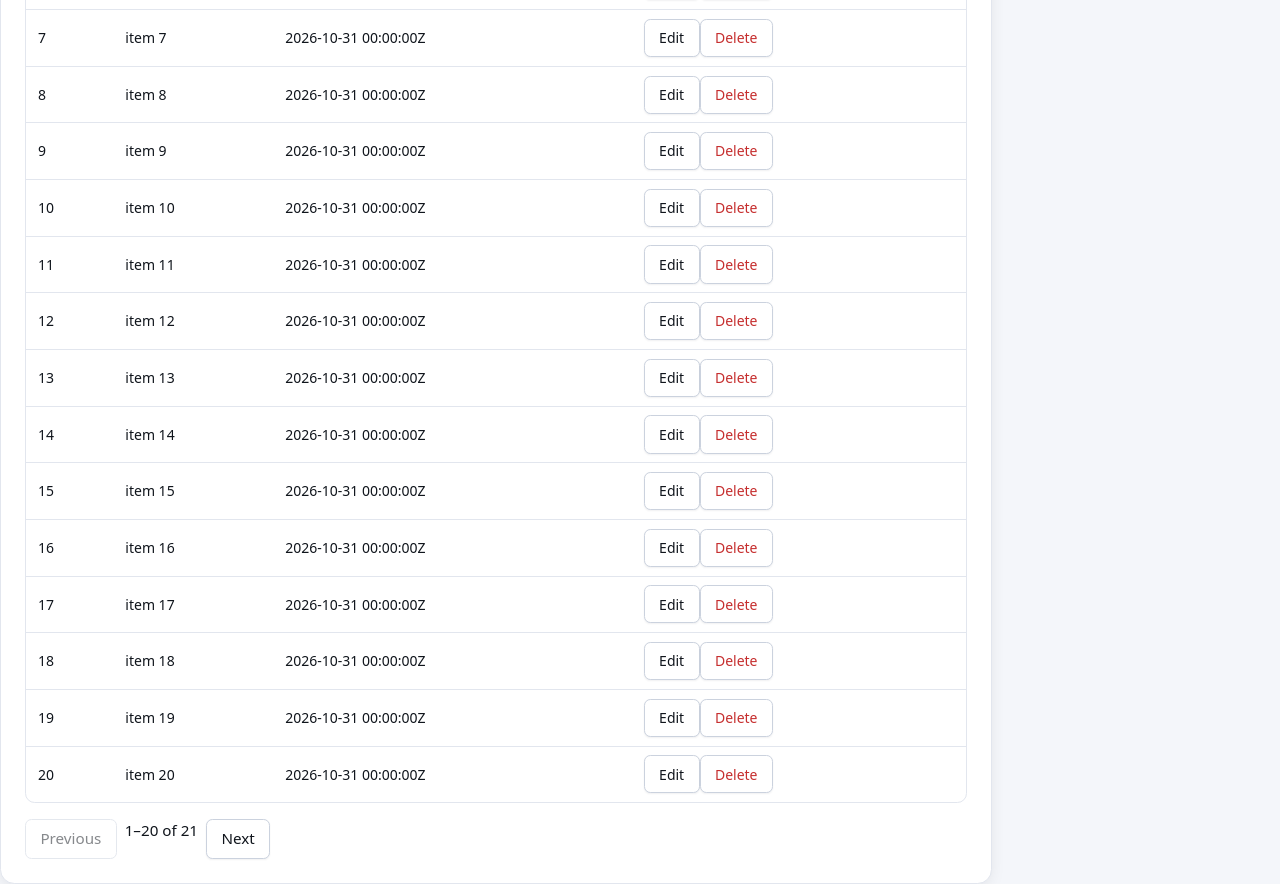
Test: ItemsPage › 次のページへ進むと、その範囲を読み直す
(page scrolled)
Expected: the text "1–20 of 21" is shown, [125,820,198,840]
Expected: the button "Previous" is disabled, [25,819,117,859]
Click the button "Next": (238, 839) [206,819,270,859]
(page scrolled)
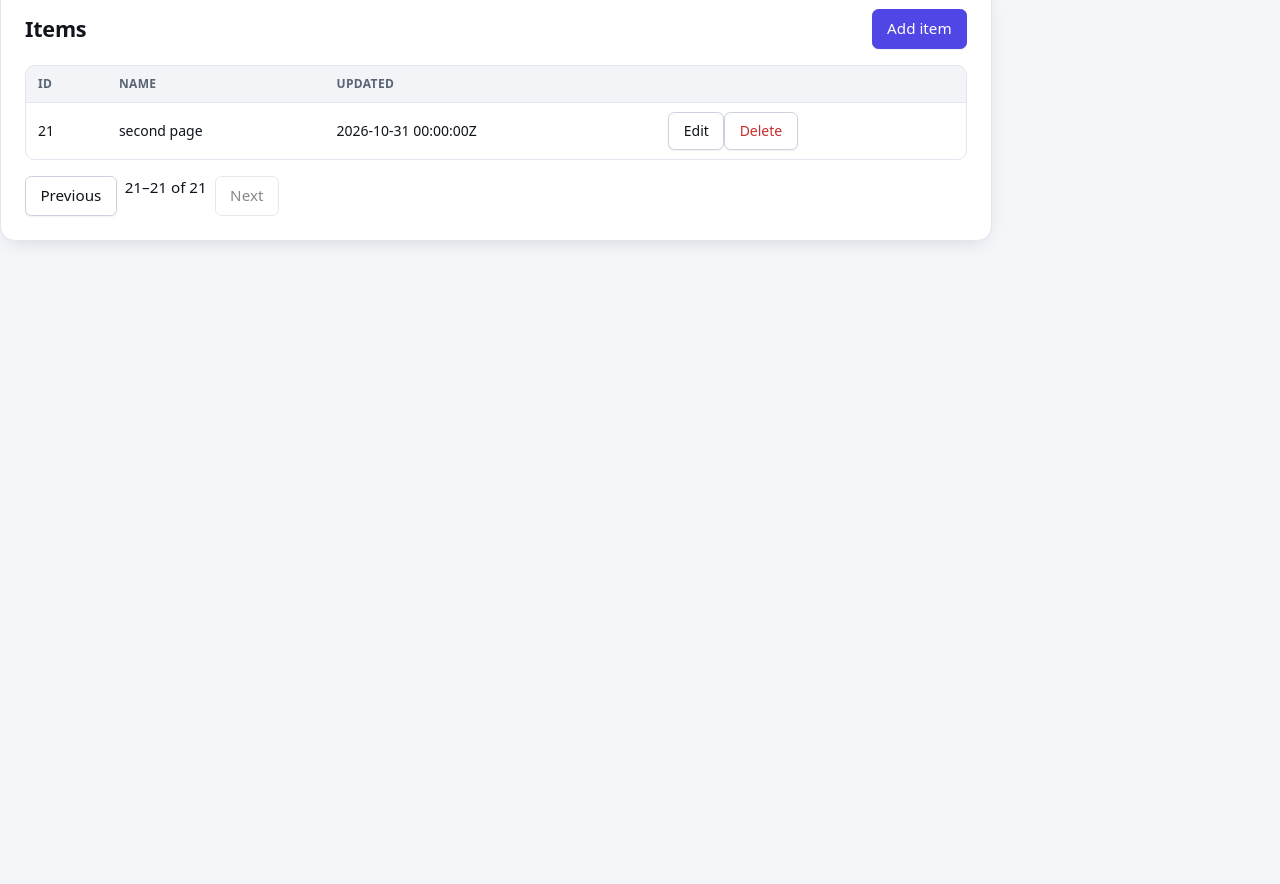
Now the text "second page" is shown, box [107,103,324,159]
Now the text "21–21 of 21" is shown, box [125,177,207,197]
Now the button "Next" is disabled, box [215,176,279,216]
